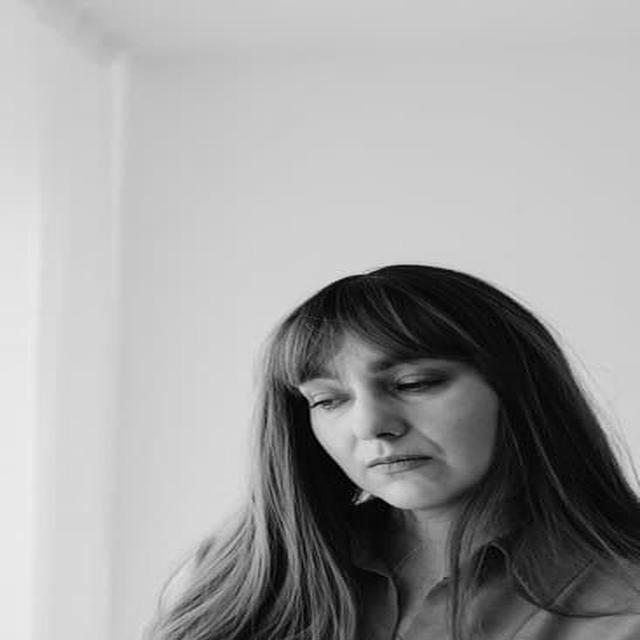Sadness: (299, 338, 496, 510)
